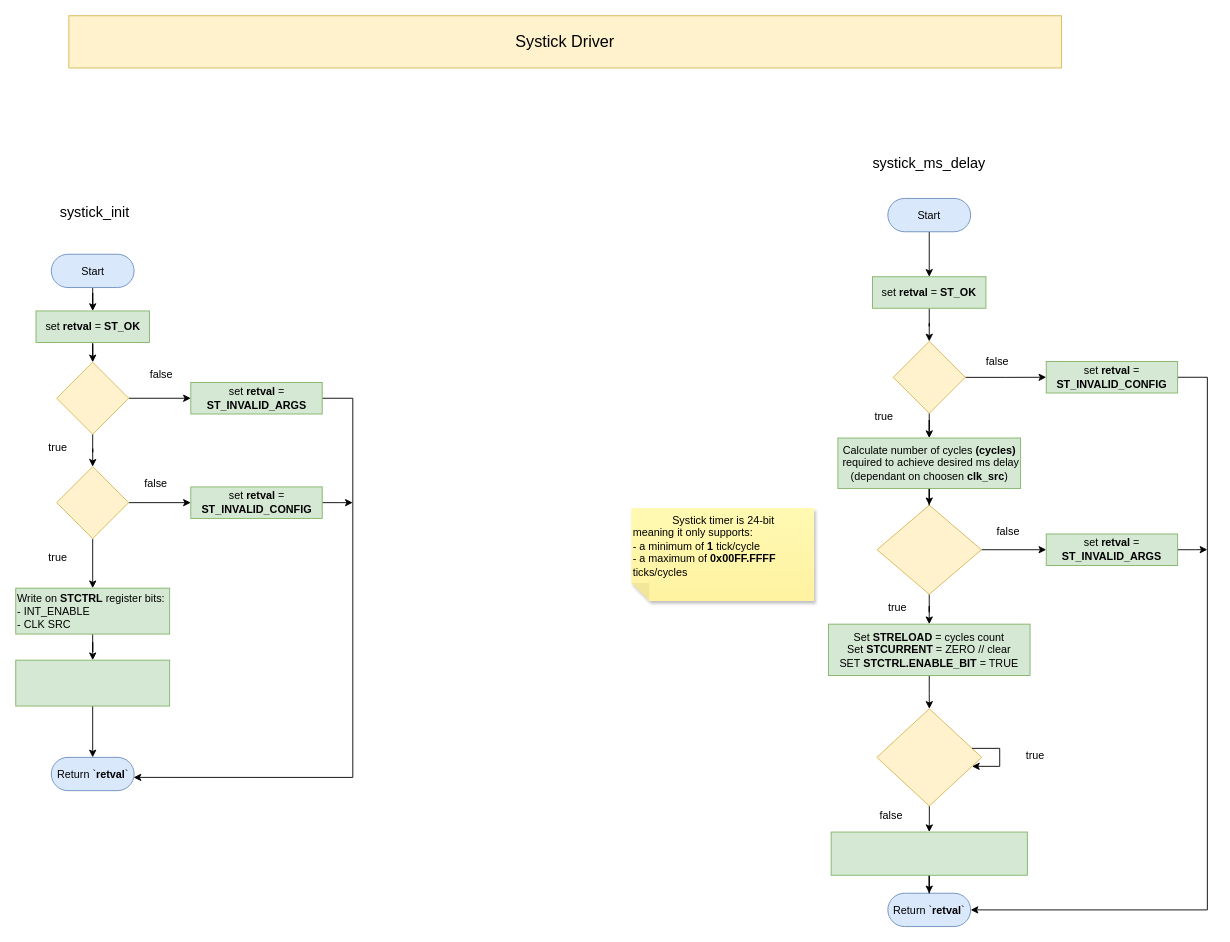
Some shapes in this 1230 by 942 pixel diagram are drawn without their labels. Each missing label, with the centre of its shape:
(cycles) count is supported?: the point at 928,549
// disable systick Clear STCTRL.ENABLE_BIT: the point at 928,853
STCTRL > COUNT_BIT (0) == 0: the point at 929,757
systick initialized?: the point at 928,376
Update globals: - clk_src - initialized = true: the point at 92,682
Valid Args: the point at 92,397
Valid Config: the point at 92,502
